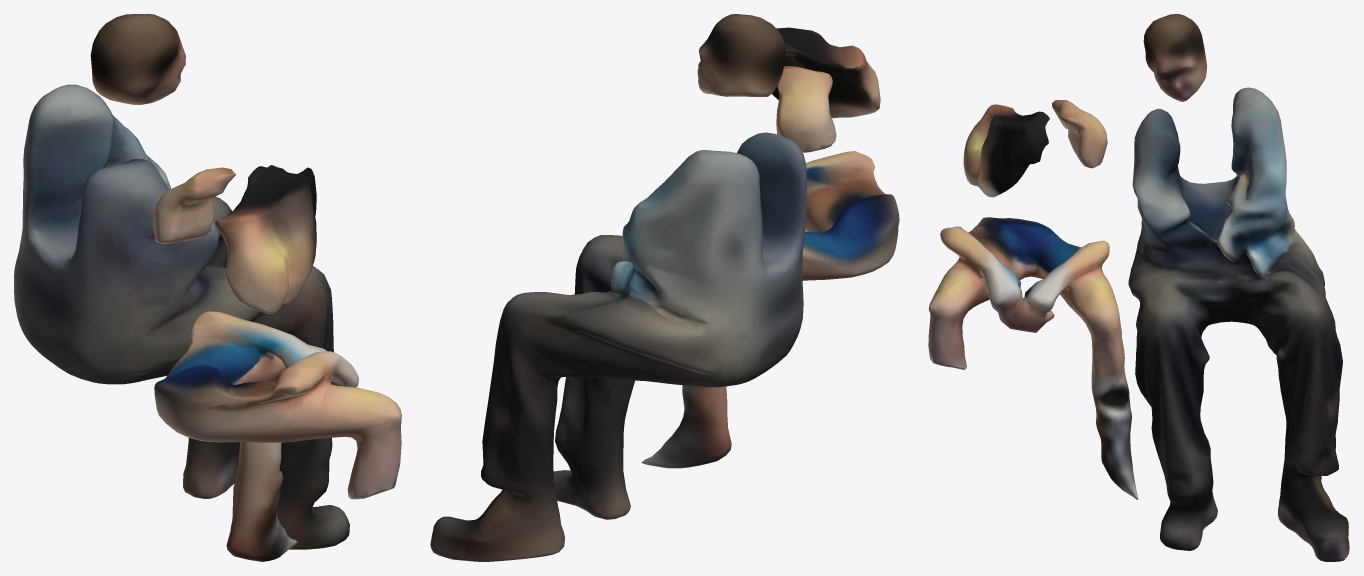
File: supporter-021.glb
3 renders of one model, left to right at view 1: azimuth 30°, elevation 25°; view 2: azimuth 150°, elevation 25°; view 3: azimuth 270°, elevation 25°, orthographic. The views are drawn at different scales.
Parts seen in each view (by area): view 1: tripo_node_da73e891-68b3-45e4-b182-76711e1dff1a; view 2: tripo_node_da73e891-68b3-45e4-b182-76711e1dff1a; view 3: tripo_node_da73e891-68b3-45e4-b182-76711e1dff1a.
Boxes of the visible parts, x1,y1,x2,y2 form: tripo_node_da73e891-68b3-45e4-b182-76711e1dff1a: [14, 14, 401, 561]; tripo_node_da73e891-68b3-45e4-b182-76711e1dff1a: [430, 14, 899, 561]; tripo_node_da73e891-68b3-45e4-b182-76711e1dff1a: [928, 14, 1349, 561].
Bounding box in the file's own units: 0.692 × 1.2 × 1.02.
1 material, 1 textured.
